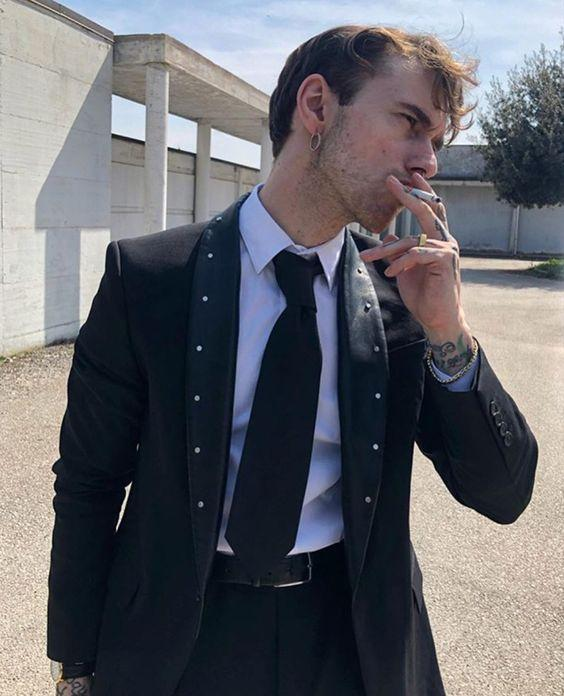cigarette: (404, 187, 442, 203)
